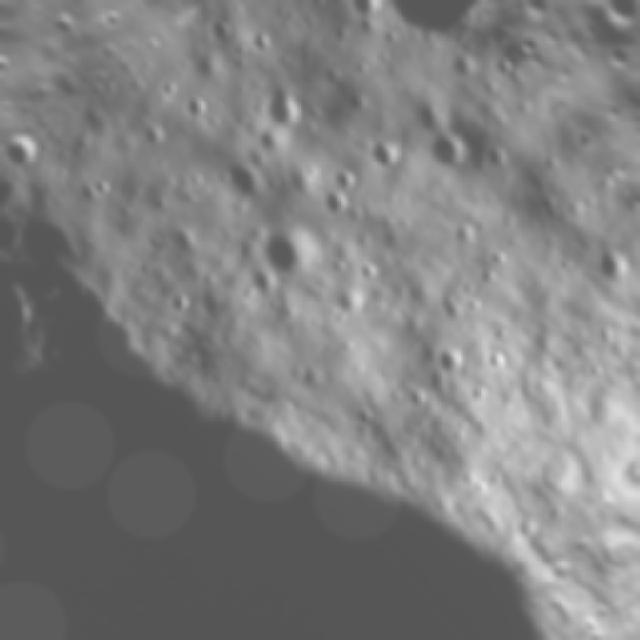crater: (338, 0, 493, 69), (251, 202, 337, 287), (0, 256, 58, 355), (250, 64, 324, 139), (210, 148, 272, 208), (168, 71, 226, 129), (0, 129, 58, 183), (361, 124, 412, 176), (589, 236, 636, 286), (421, 125, 467, 172), (428, 278, 470, 324), (329, 0, 391, 31), (477, 134, 520, 177), (478, 231, 520, 274), (195, 5, 236, 48), (348, 245, 390, 286), (325, 157, 367, 197), (82, 164, 123, 204), (164, 282, 204, 322), (332, 282, 372, 322), (487, 43, 522, 82), (533, 140, 569, 175), (614, 440, 640, 485), (483, 344, 517, 378), (350, 398, 384, 432), (447, 54, 479, 86), (612, 186, 640, 222), (320, 183, 351, 215), (468, 376, 495, 406), (491, 319, 518, 346), (464, 292, 490, 318), (475, 262, 500, 287), (459, 273, 483, 298), (471, 474, 495, 498), (570, 131, 590, 152), (635, 237, 640, 269)
